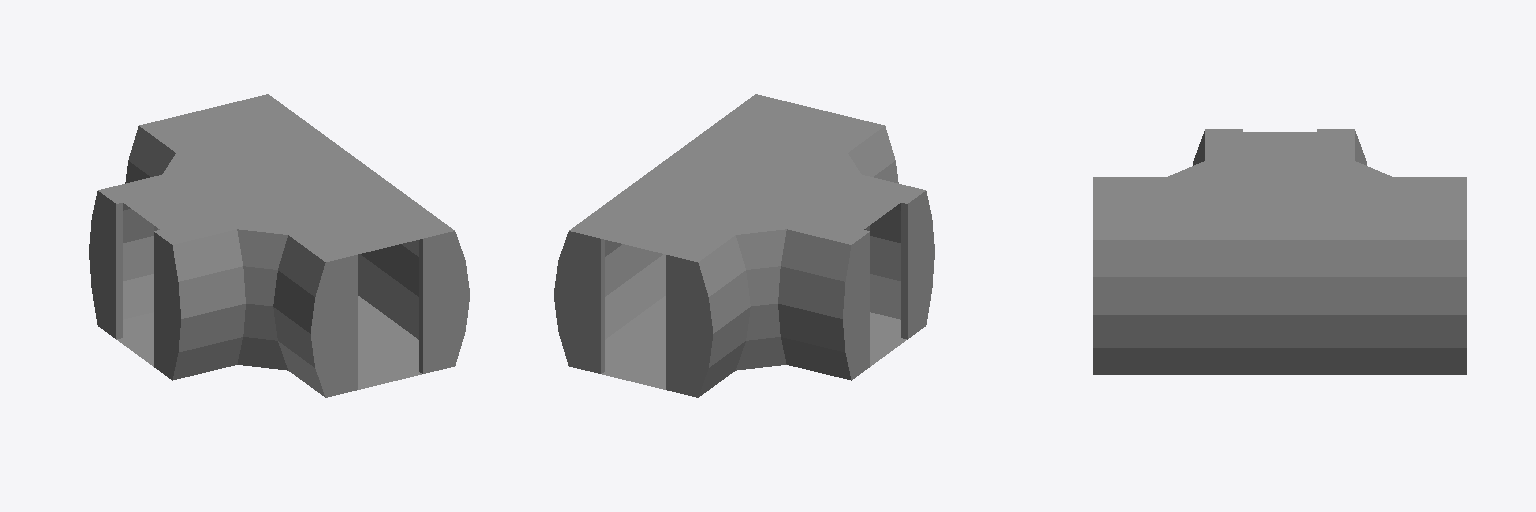
Rendered from IL-Corridor.obj.
The picture shows the model from 3 angles: view 1: azimuth 30°, elevation 25°; view 2: azimuth 150°, elevation 25°; view 3: azimuth 270°, elevation 25°; orthographic projection.
Visible parts, largest first — view 1: Plane; view 2: Plane; view 3: Plane.
Part boxes in pixels (left/top/right/bottom): Plane: left=89, top=94, right=469, bottom=397; Plane: left=554, top=94, right=934, bottom=397; Plane: left=1093, top=129, right=1466, bottom=374.
Size of the model in its own units: 3.73 by 2 by 5.